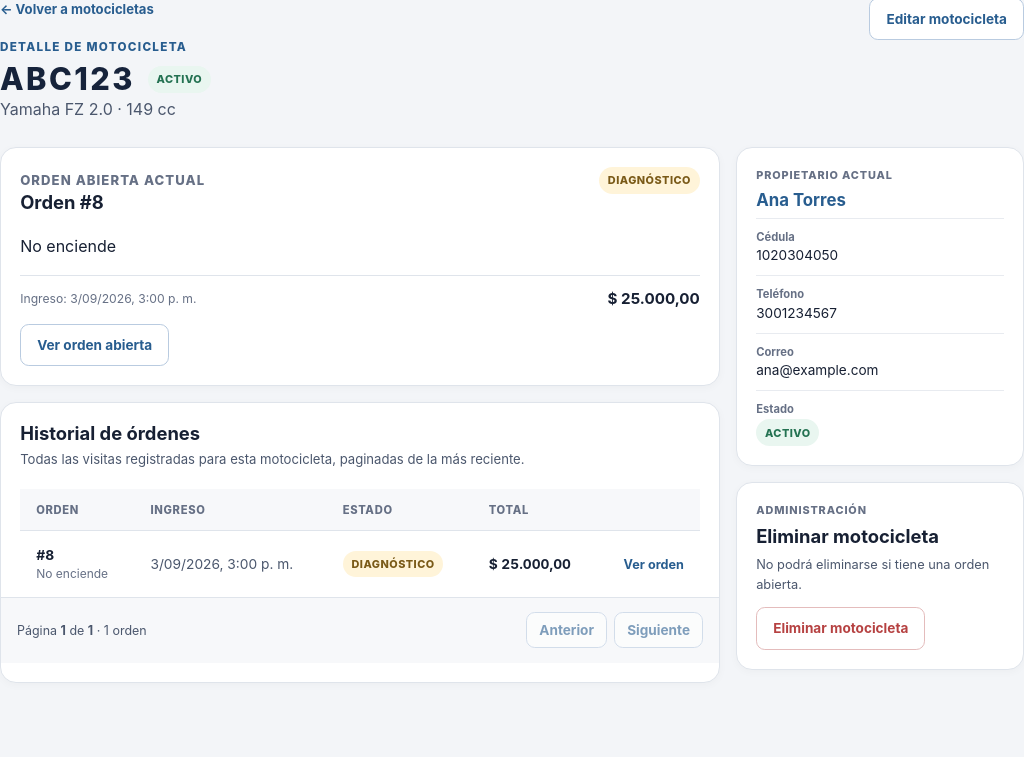
Scenario: Motorcycle master screens › shows owner, open-order context, history and protected lifecycle mutation
The image size is (1024, 757).
Expected: the heading "Orden #8" is shown, [20,191,104,213]
Click the button "Eliminar motocicleta" at {"x": 841, "y": 629}, box [756,607,925,650]
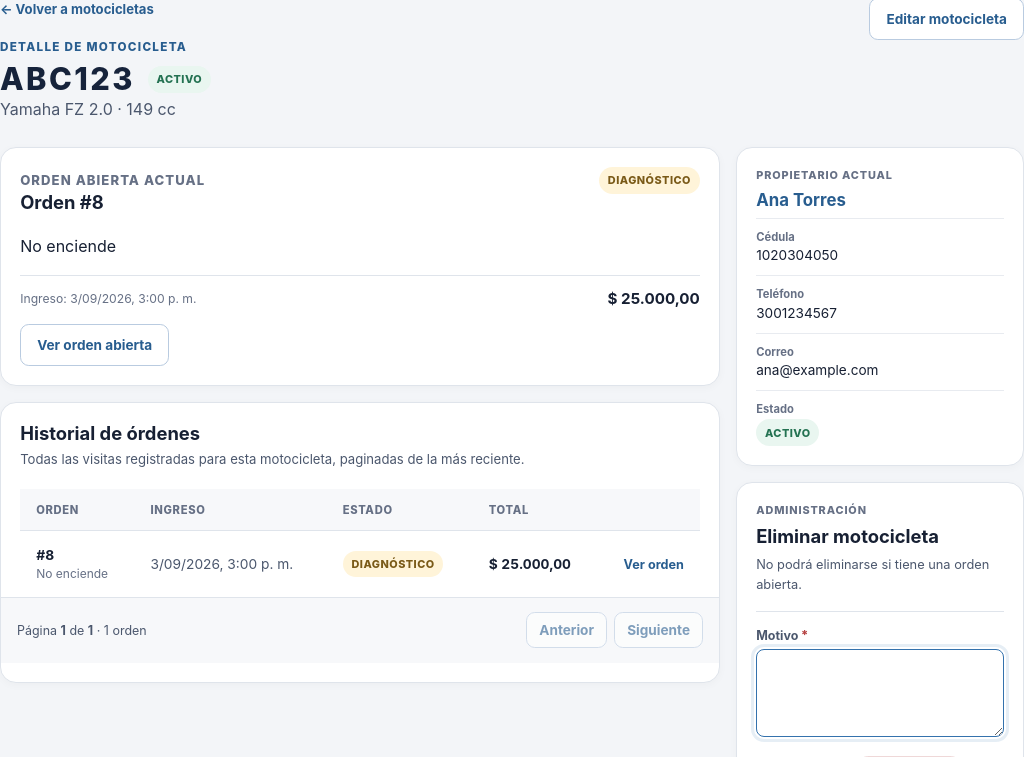
Type "Archivo solicitado." into the text box labelled "Motivo *" at {"x": 880, "y": 693}, box [756,649,1004,737]
(page scrolled)
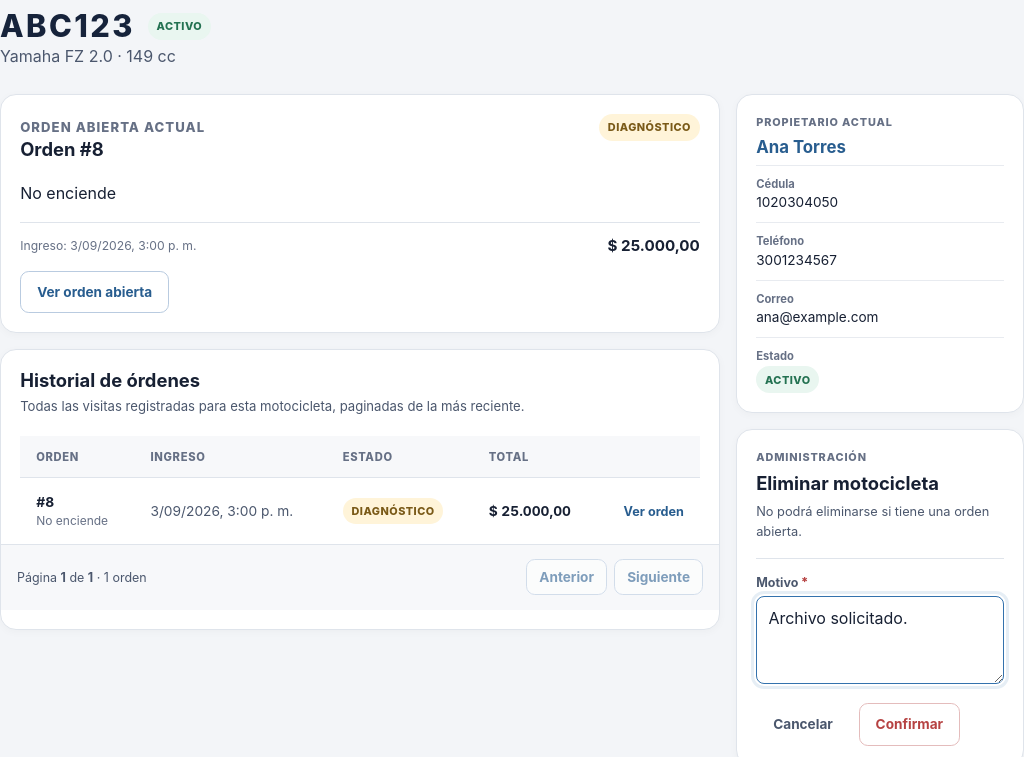
Click the button "Confirmar" at {"x": 909, "y": 724}, box [859,703,960,746]
(page scrolled)
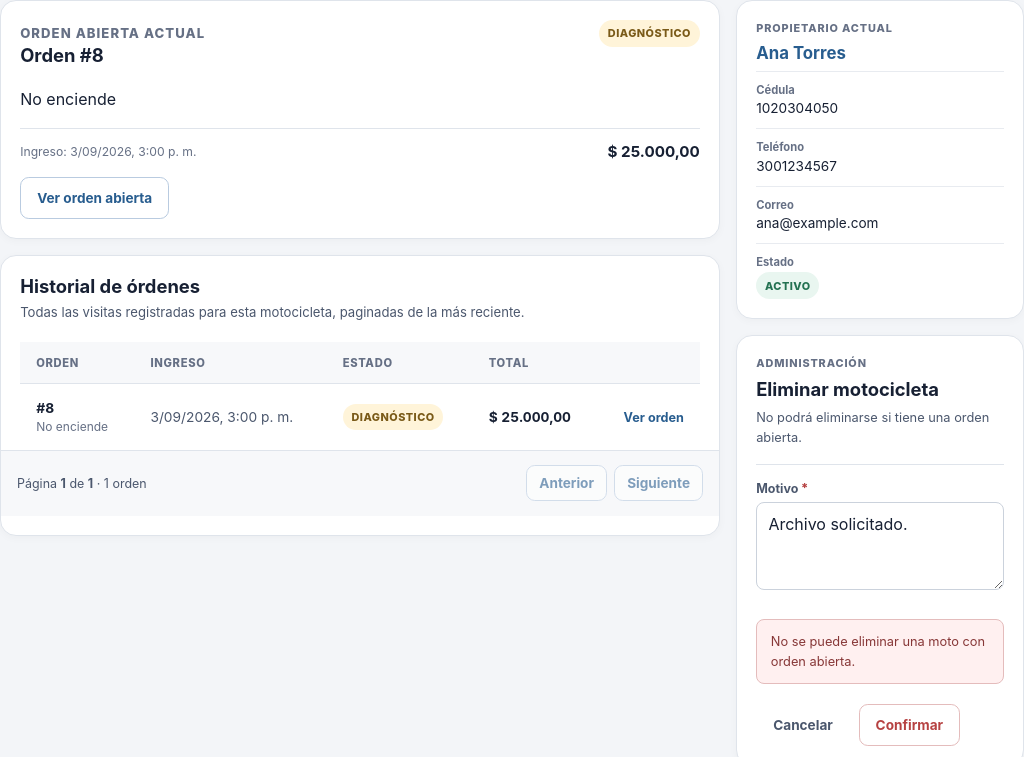
Expected: the text "No se puede eliminar una moto con orden abierta." is shown, [756,619,1004,684]
